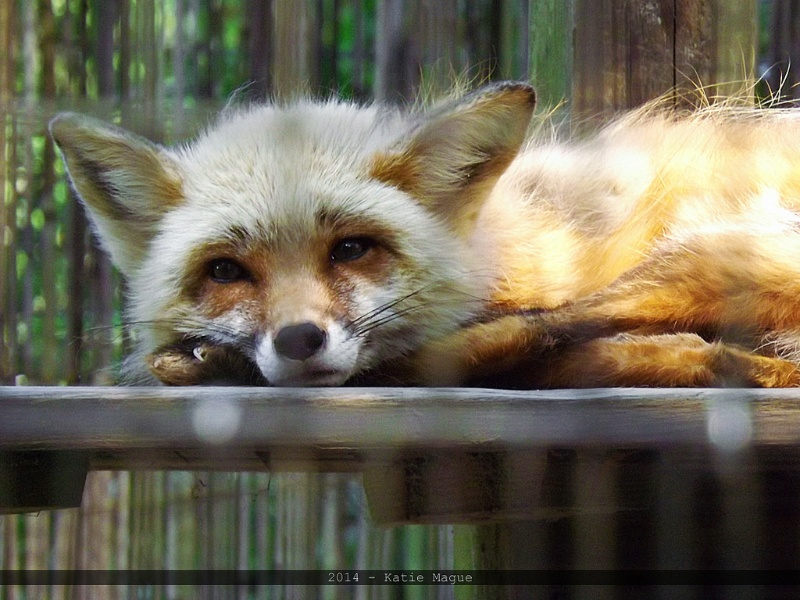fox: (46, 72, 800, 409)
